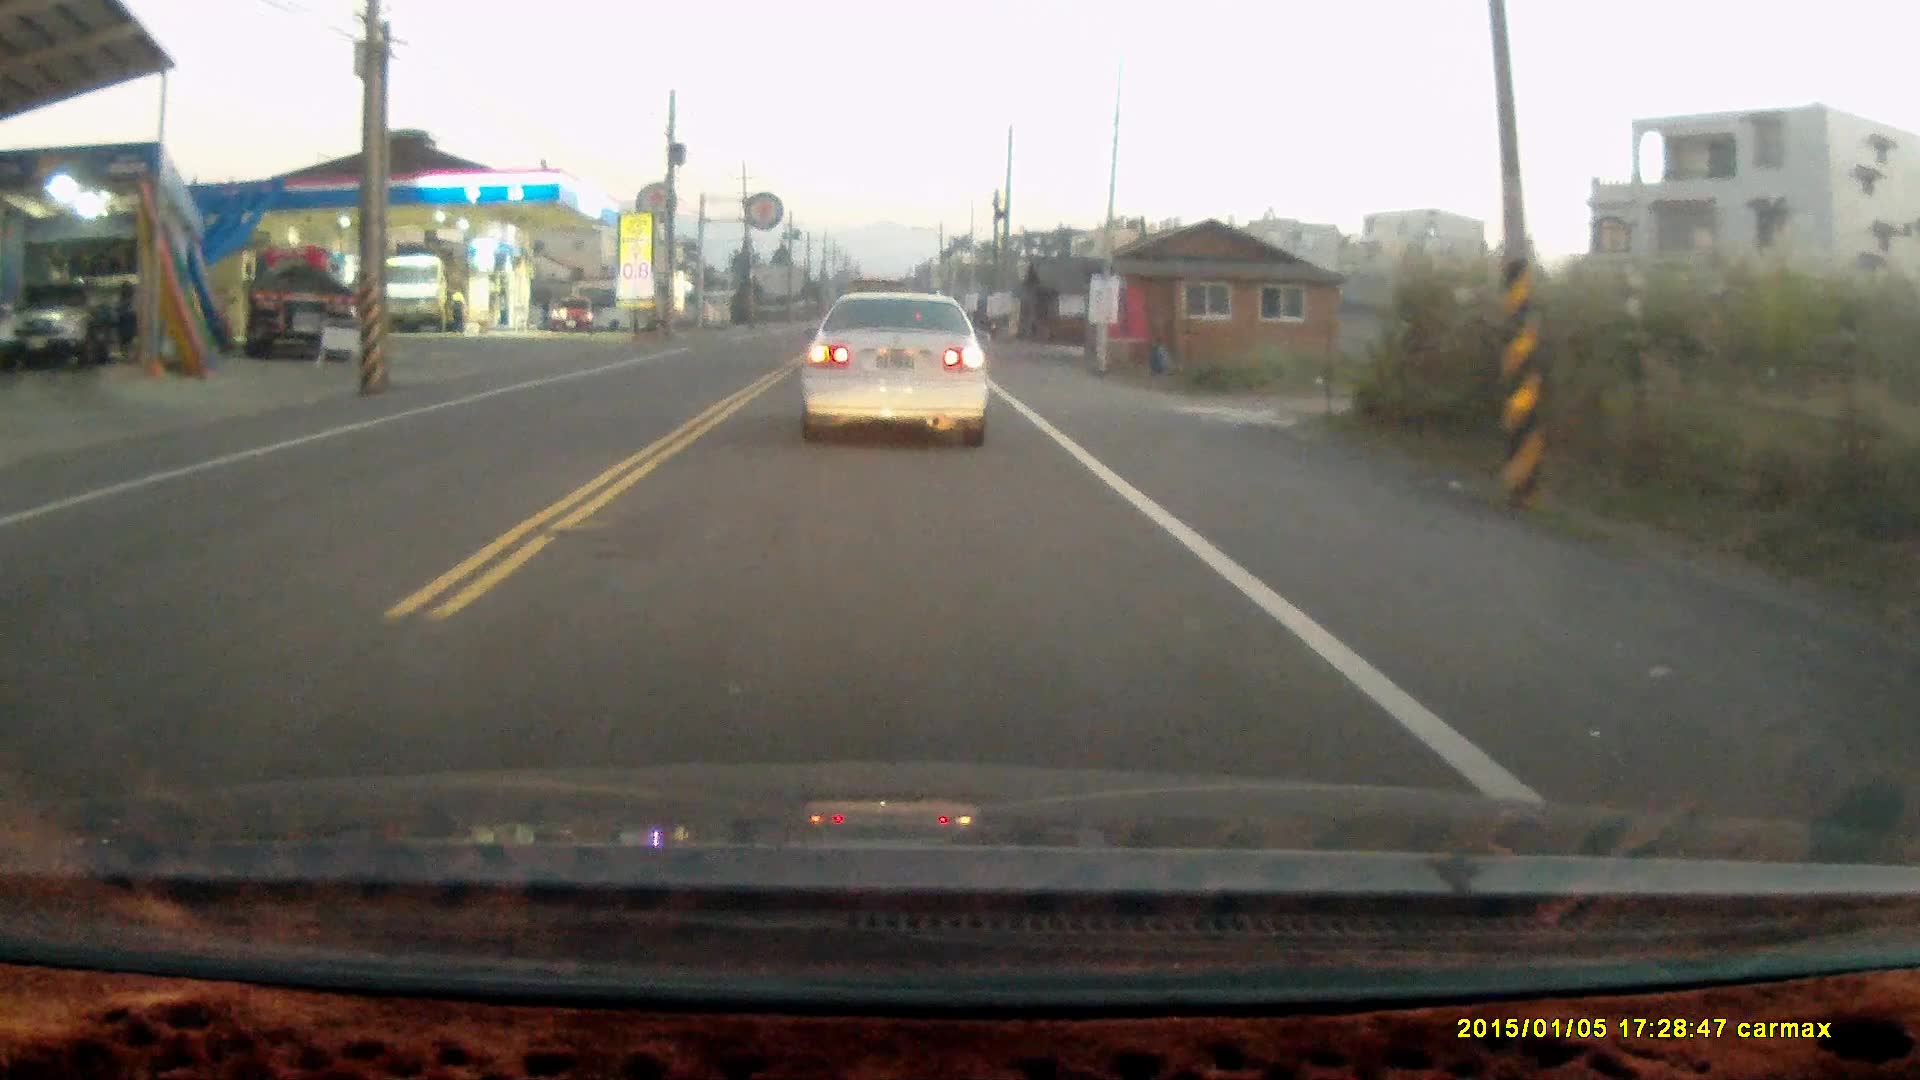pedestrian: (447, 284, 468, 331)
vehicle: (795, 284, 995, 450), (241, 243, 354, 356), (383, 254, 461, 338), (552, 299, 595, 335)
